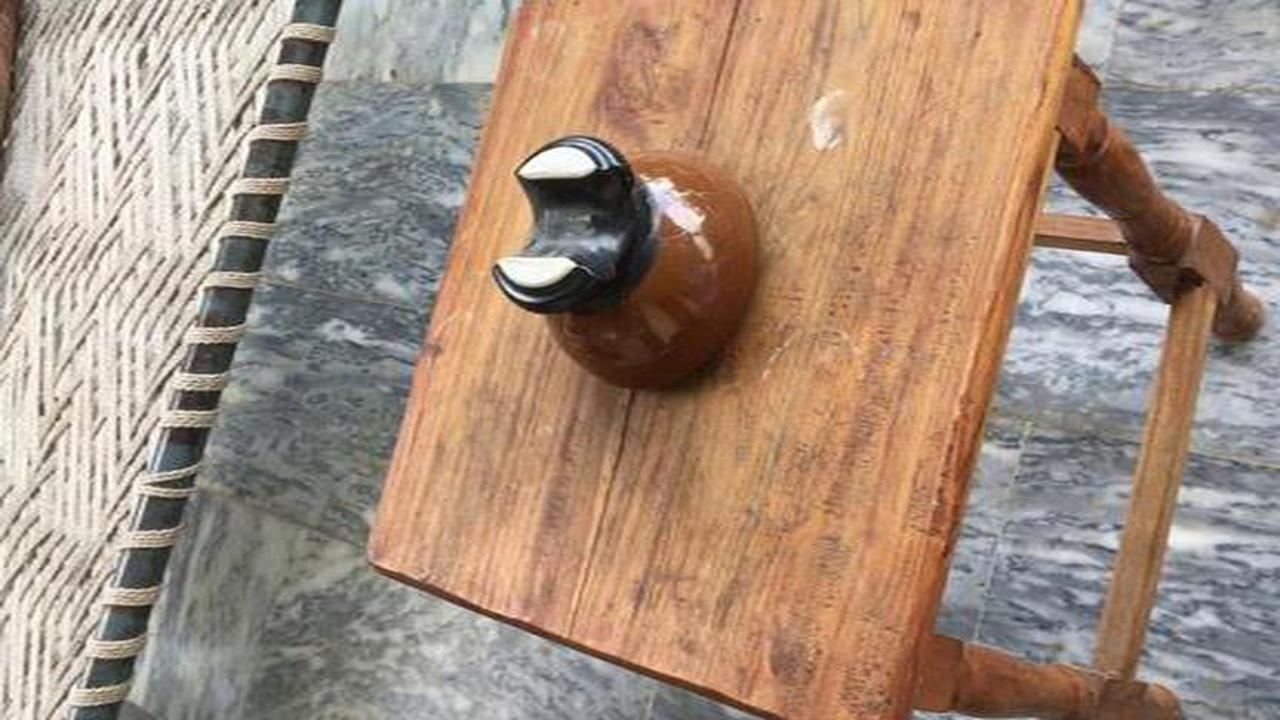insulator_pin: (480, 127, 788, 407)
